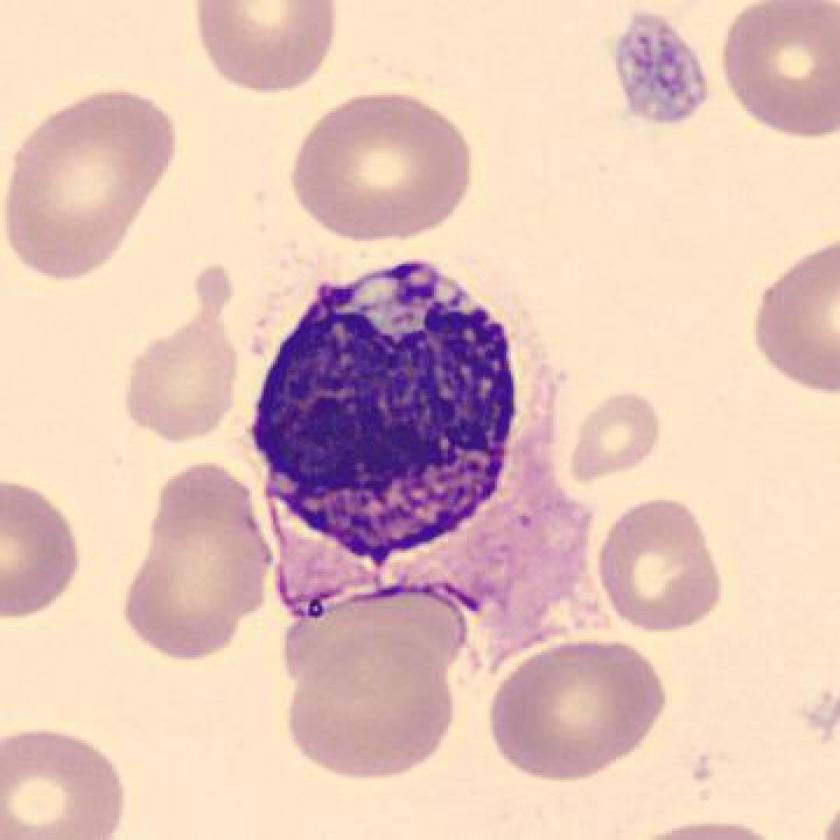basophil: (248, 254, 552, 594)
